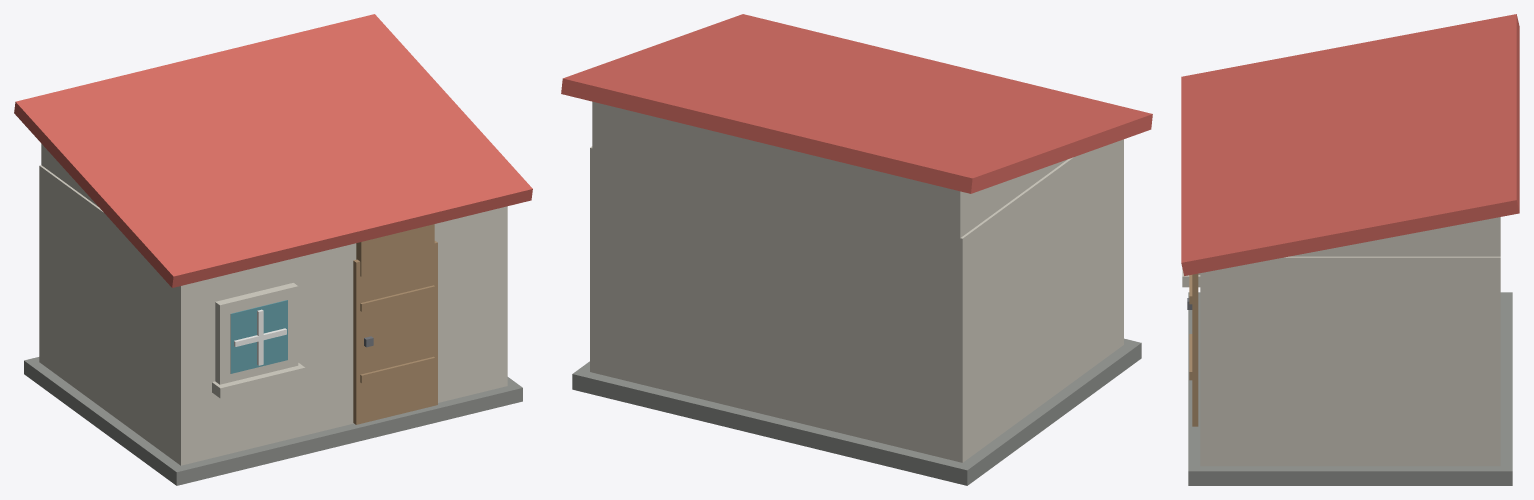
File: lighthouse-and-rocky-coast-keepers-outbuilding-642d212f__36595.glb
3 renders of one model, left to right at view 1: azimuth 30°, elevation 25°; view 2: azimuth 150°, elevation 25°; view 3: azimuth 270°, elevation 25°, orthographic. The views are drawn at different scales.
Visible parts, largest first — view 1: keepers-outbuilding, door/timber; view 2: keepers-outbuilding; view 3: keepers-outbuilding, door/timber.
Part boxes in pixels (box(x1,y1,x2,y2)): keepers-outbuilding: box(14, 14, 532, 485); door/timber: box(353, 241, 437, 424); keepers-outbuilding: box(561, 14, 1152, 485); keepers-outbuilding: box(1181, 14, 1519, 485); door/timber: box(1189, 273, 1198, 426).
Size of the model in its own units: 4.4 by 3.19 by 3.38.
